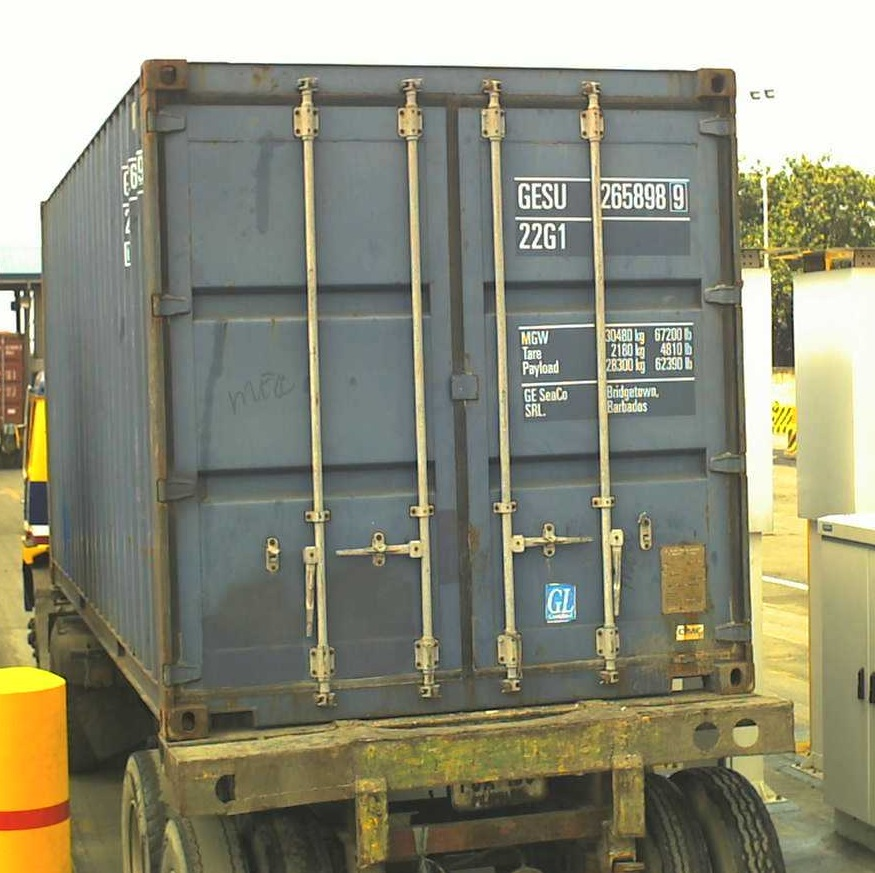container_door: (145, 53, 754, 742)
